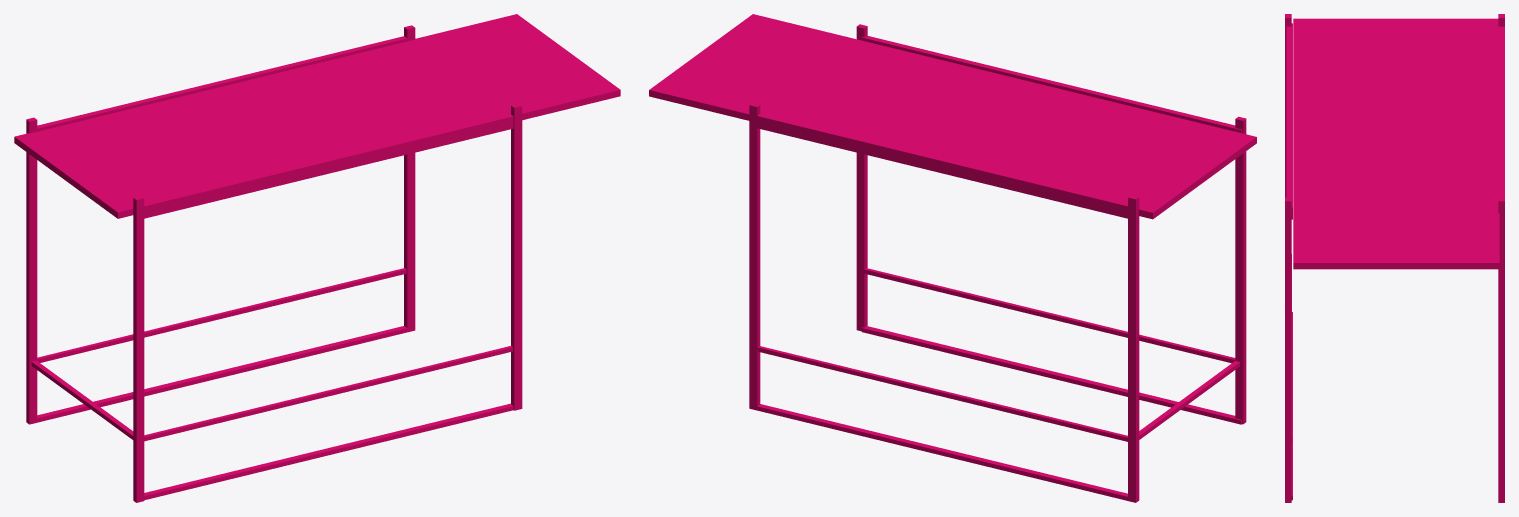
The model's file is Shopping_Cart_Hut_01.fbx.
3 renders of one model, left to right at view 1: azimuth 30°, elevation 25°; view 2: azimuth 150°, elevation 25°; view 3: azimuth 270°, elevation 25°, orthographic.
Visible parts, largest first — view 1: Shopping_Cart_Hut_01; view 2: Shopping_Cart_Hut_01; view 3: Shopping_Cart_Hut_01.
Boxes of the visible parts, x1,y1,x2,y2 form: Shopping_Cart_Hut_01: (14, 14, 620, 502); Shopping_Cart_Hut_01: (649, 14, 1256, 502); Shopping_Cart_Hut_01: (1285, 14, 1504, 502).
Bounding box in the file's own units: 578 × 333 × 220.
